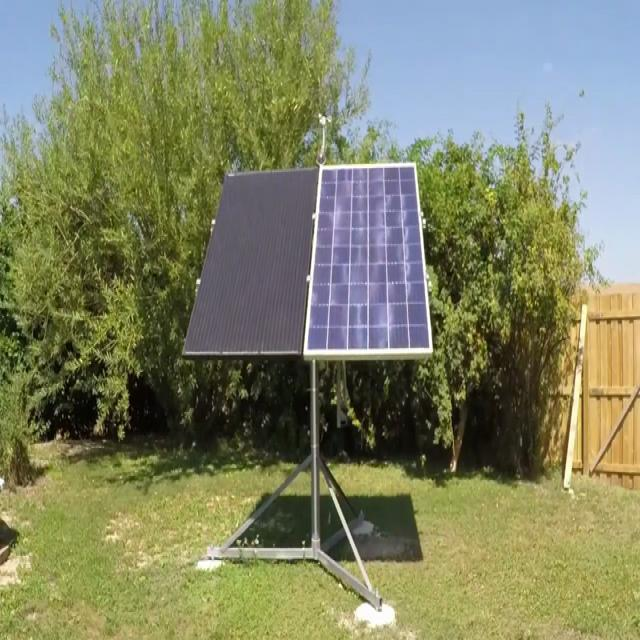Normal Solar Panel: (184, 169, 318, 356), (305, 165, 432, 360)
